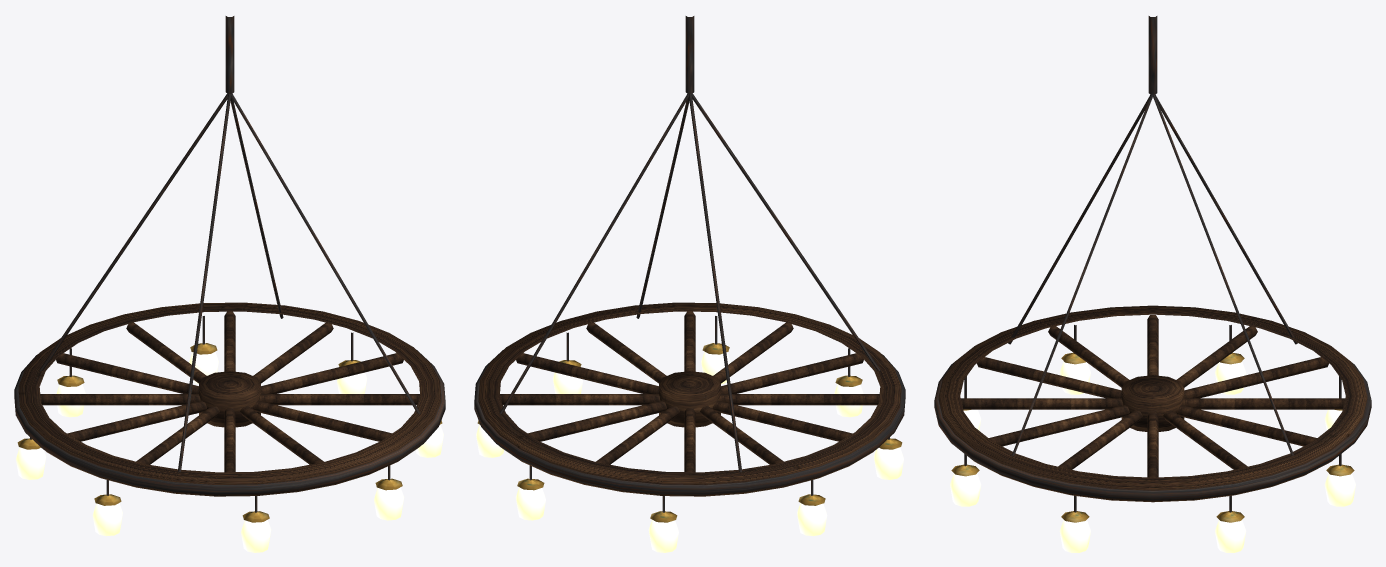
The model's file is sp_chandelier.glb.
3 views of the same model, side by side, from view 1: azimuth 30°, elevation 25°; view 2: azimuth 150°, elevation 25°; view 3: azimuth 270°, elevation 25° (orthographic).
Visible parts, largest first — view 1: spire; view 2: spire; view 3: spire.
Part boxes in pixels (x1=…): spire: x1=14, y1=16, x2=445, y2=552; spire: x1=474, y1=16, x2=905, y2=552; spire: x1=934, y1=16, x2=1371, y2=552.
Size of the model in its own units: 3.06 by 3.52 by 3.06.
Materials: 4 (3 with a texture image).
